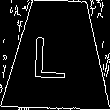L_N: (37, 29, 77, 80)
